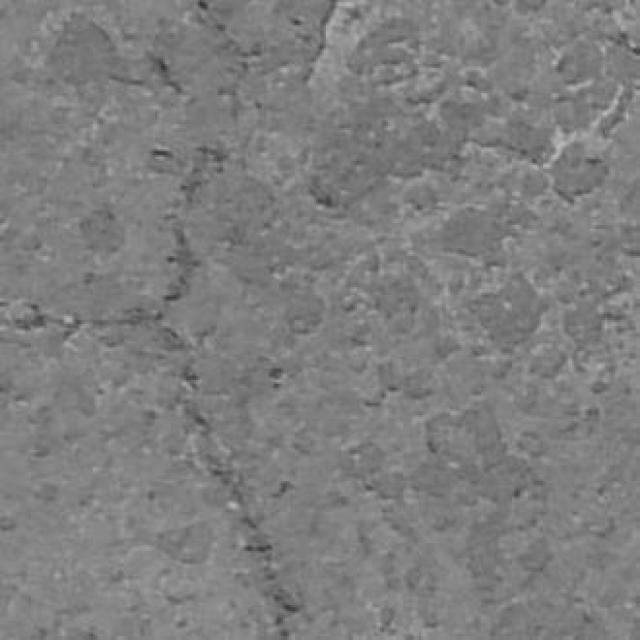crack: (183, 398, 304, 639), (301, 0, 339, 83)
